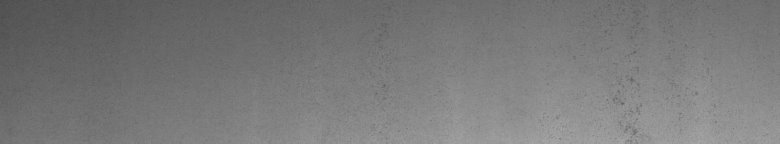ib: (606, 51, 698, 136)
